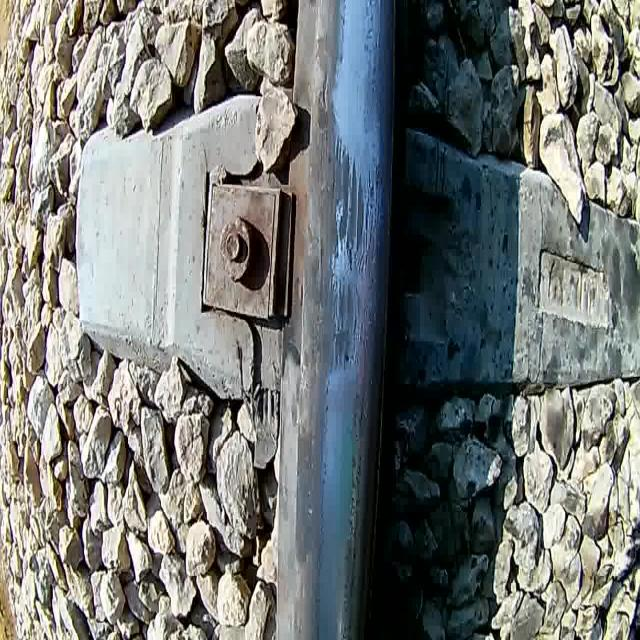Cracks: (367, 153, 387, 270)
Flakings: (342, 390, 373, 640)
Squats: (317, 124, 365, 274), (314, 274, 360, 376)
